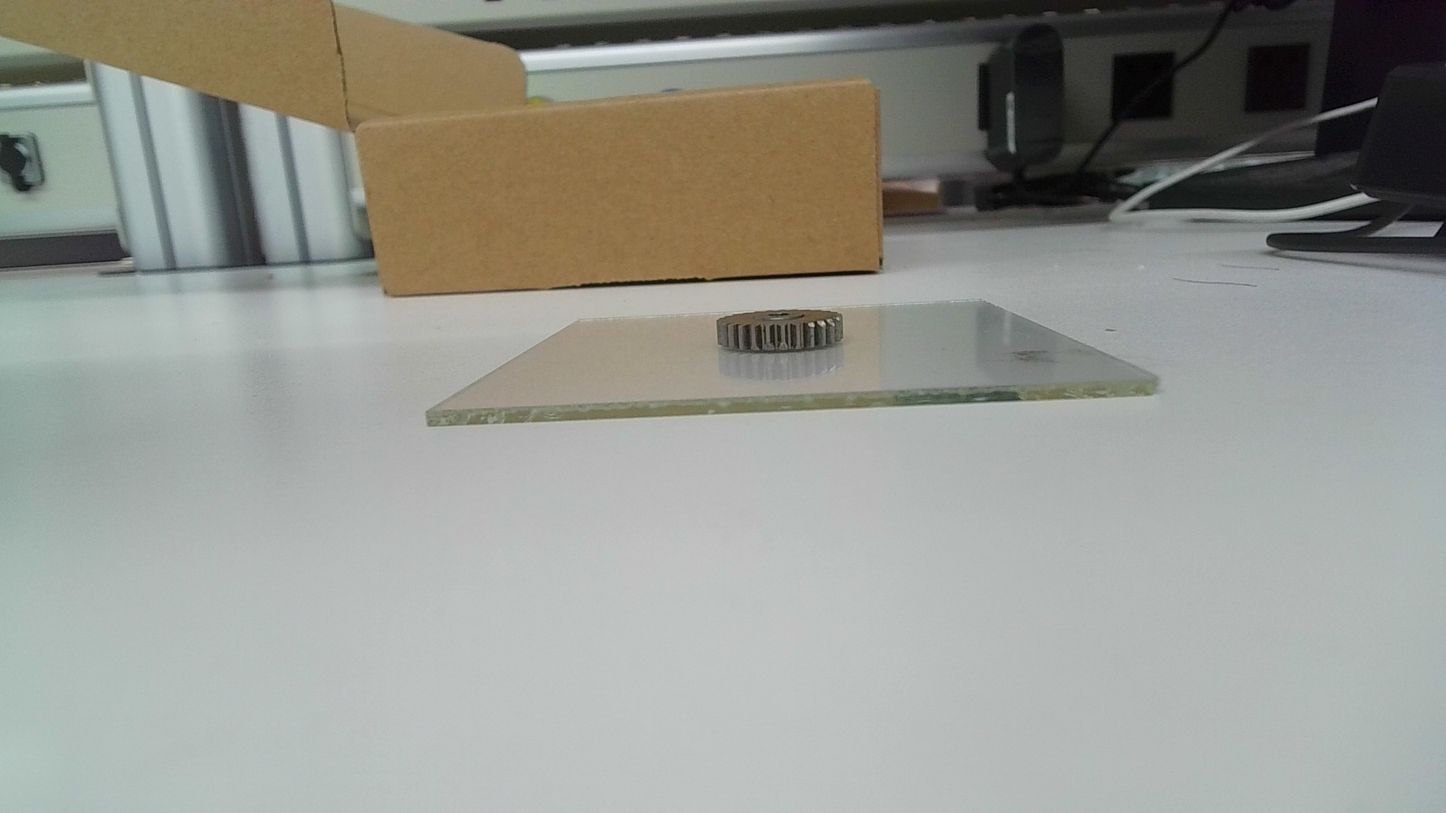gear: (713, 307, 851, 353)
